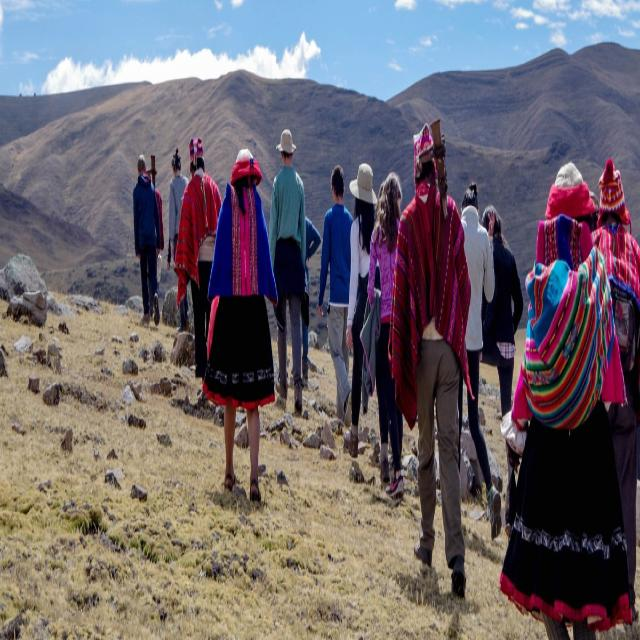body: (497, 156, 637, 639), (197, 478, 509, 622), (386, 119, 477, 605), (201, 144, 280, 506), (590, 184, 640, 625), (461, 201, 525, 489), (457, 177, 503, 542), (341, 160, 391, 486), (588, 154, 640, 438), (266, 125, 311, 418), (366, 170, 405, 498), (182, 134, 222, 405), (374, 177, 406, 484), (317, 163, 354, 425), (131, 150, 162, 328), (167, 144, 191, 334), (300, 212, 322, 390), (145, 166, 164, 320)
